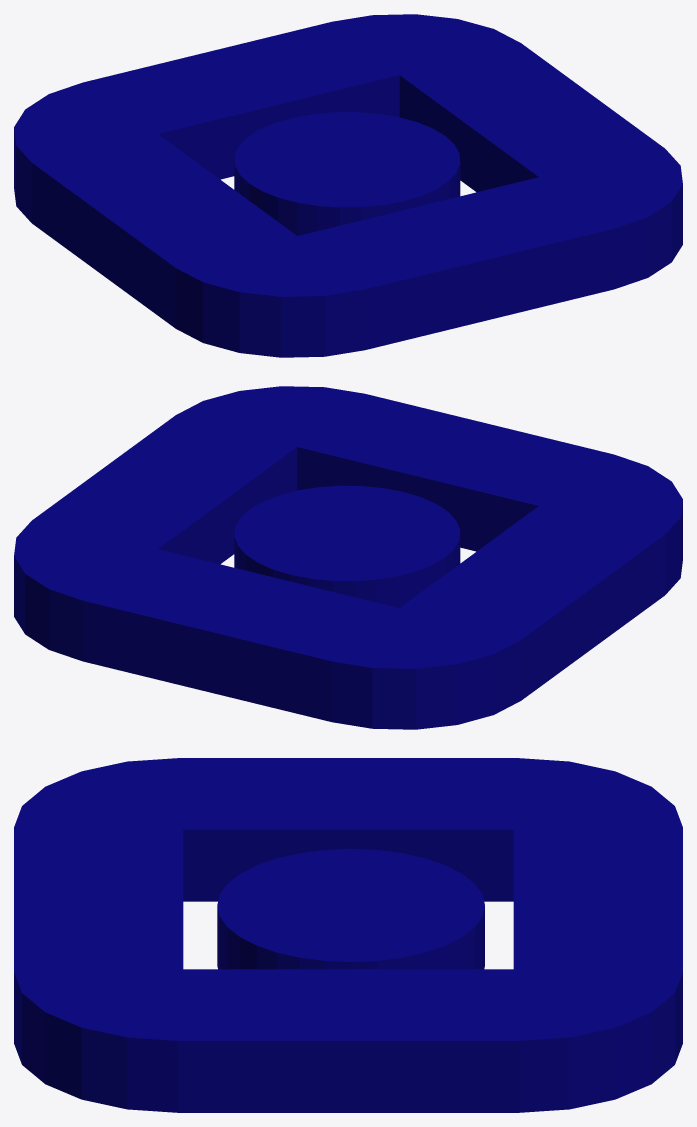
File: ntnu.fbx
The picture shows the model from 3 angles, top to bottom: view 1: azimuth 30°, elevation 25°; view 2: azimuth 150°, elevation 25°; view 3: azimuth 270°, elevation 25°; orthographic projection. The views are drawn at different scales.
Parts seen in each view (by area): view 1: Cube.001, Cylinder.003; view 2: Cube.001, Cylinder.003; view 3: Cube.001, Cylinder.003.
Part boxes in pixels (box(x1,y1,x2,y2)): Cube.001: box(14, 14, 682, 357); Cylinder.003: box(234, 112, 460, 235); Cube.001: box(14, 386, 682, 729); Cylinder.003: box(234, 485, 460, 607); Cube.001: box(14, 758, 682, 1112); Cylinder.003: box(217, 849, 484, 969).
Bounding box in the file's own units: 2019 × 240 × 2019.
